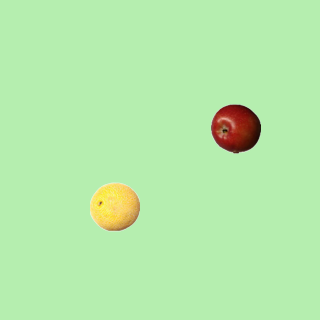Apple Braeburn: (210, 103, 260, 153)
Cantaloupe 1: (89, 181, 139, 231)
